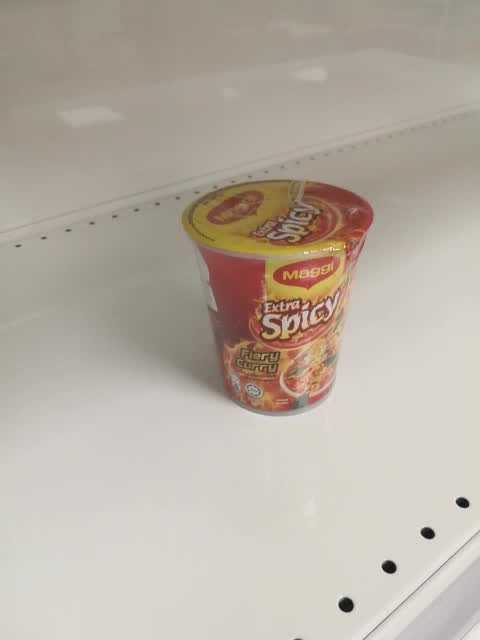maggi: (178, 177, 376, 417)
